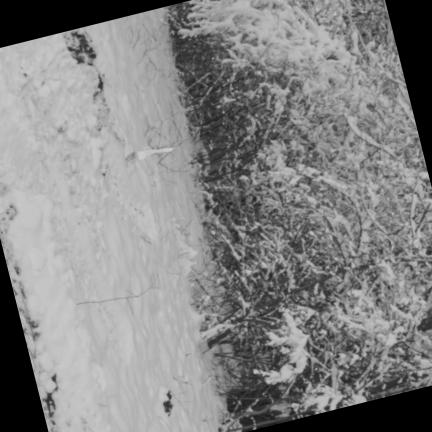Shahed: (137, 146, 171, 158)
